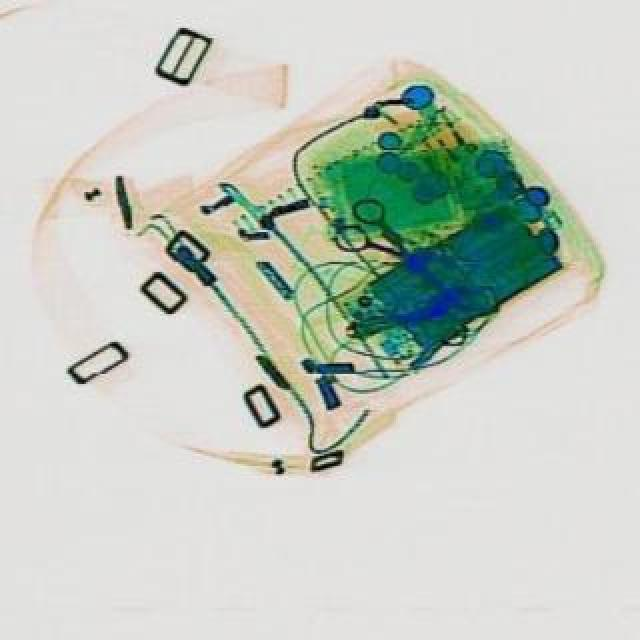pliers: (322, 190, 446, 296)
